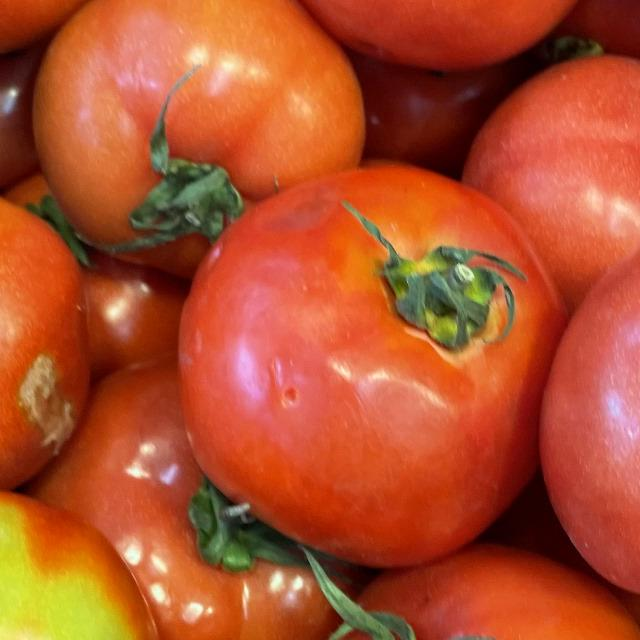tomato: (142, 135, 598, 562), (0, 162, 135, 517), (532, 192, 640, 612), (265, 0, 635, 90)
